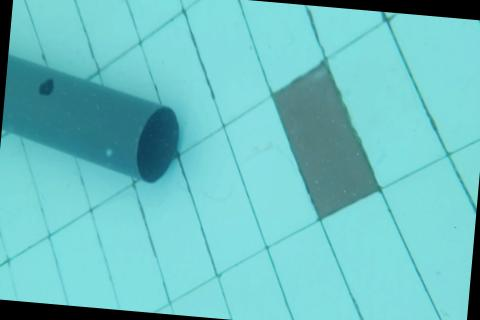kebocoran: (37, 76, 55, 98)
